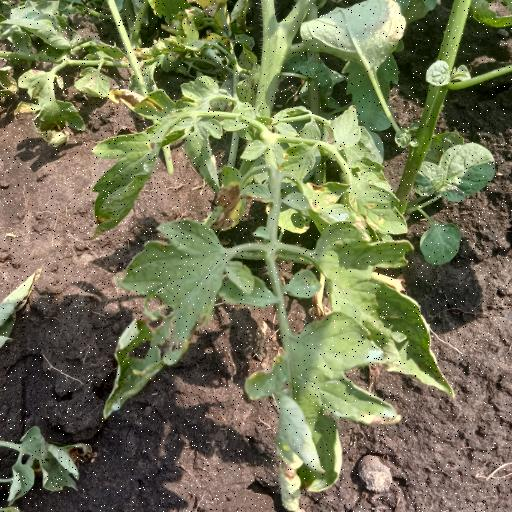Tomato_Brown_Spots: (96, 217, 252, 420), (246, 317, 402, 512), (301, 218, 462, 404), (94, 91, 222, 232)
